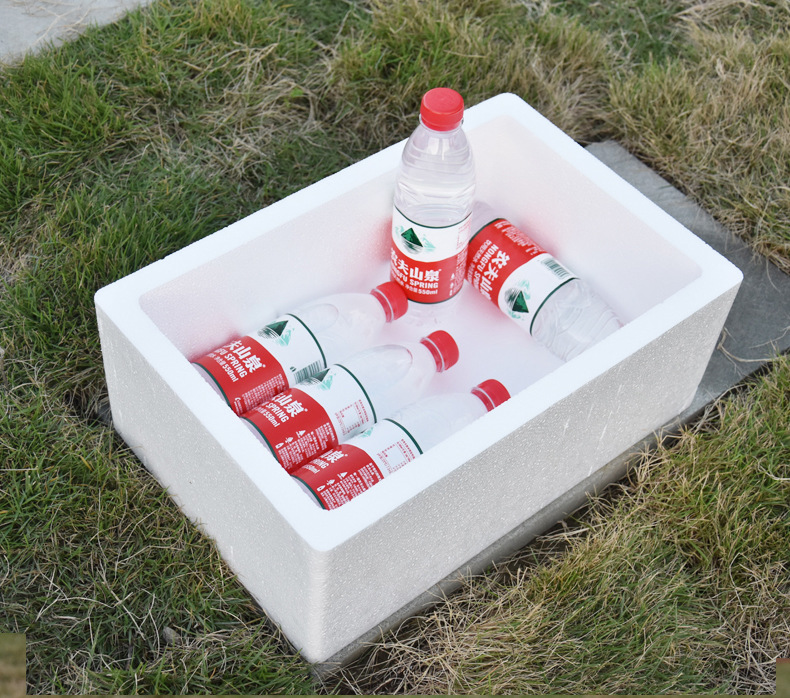泡沫箱: (96, 94, 739, 655)
